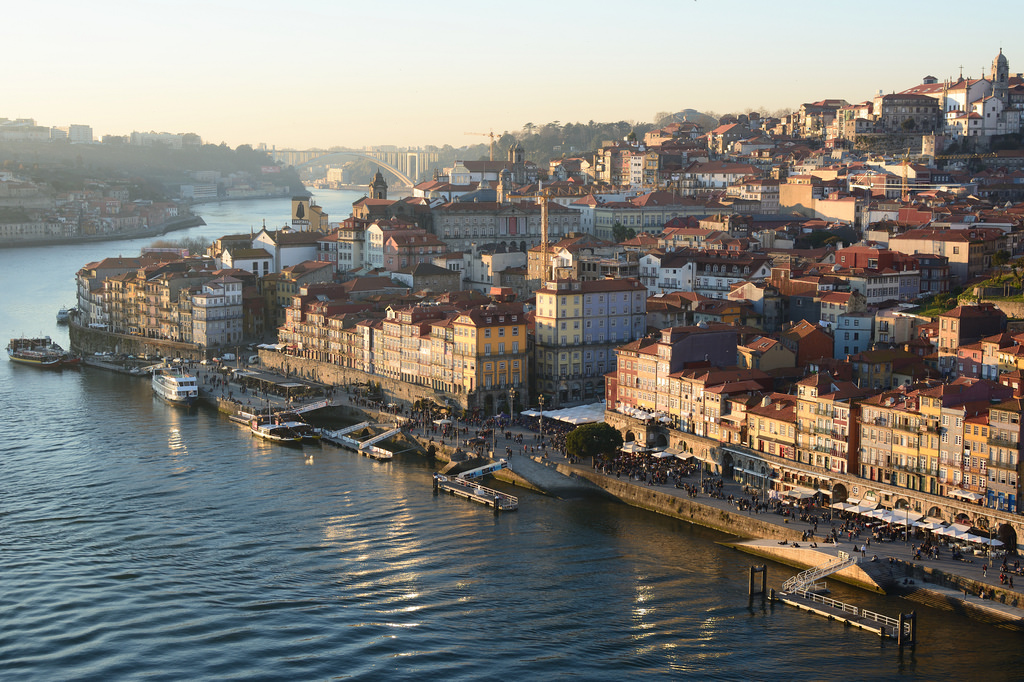arrabida: (248, 142, 442, 188)
